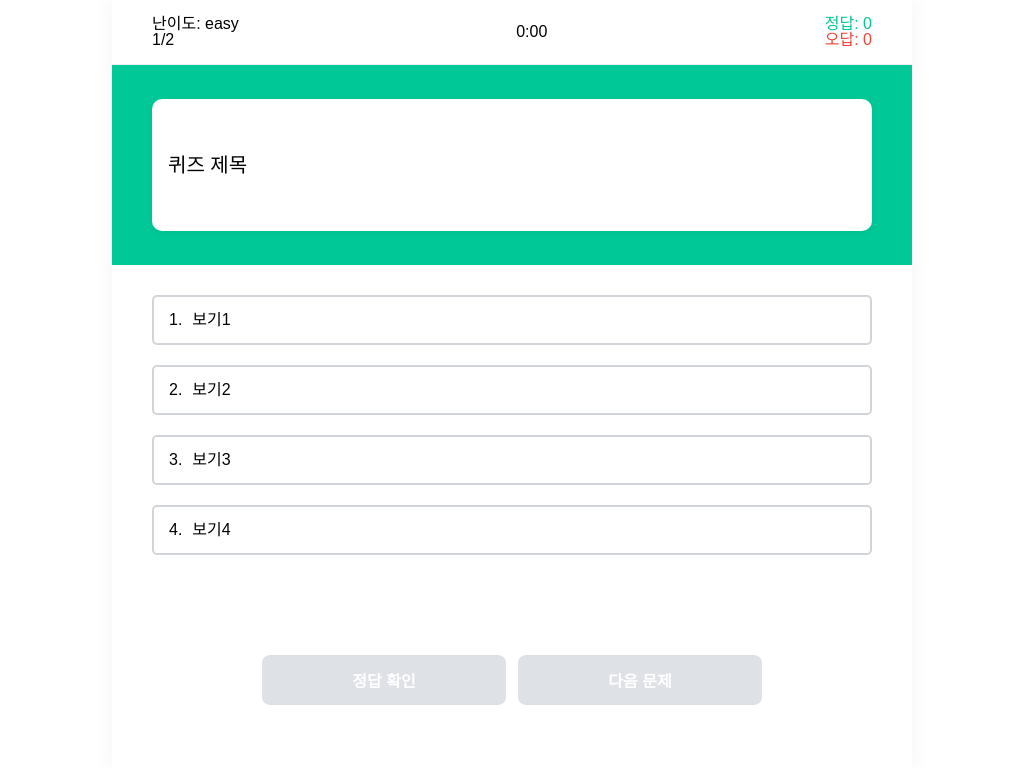
Scenario: quiz page render test › 문제 보기를 클릭하면 '정답 확인'버튼이 활성화 된다.
This screenshot has width=1024, height=768.
Expected: the button "정답 확인" is disabled, [262, 655, 506, 705]
Click the text "보기1" at (212, 320), box [192, 312, 231, 328]
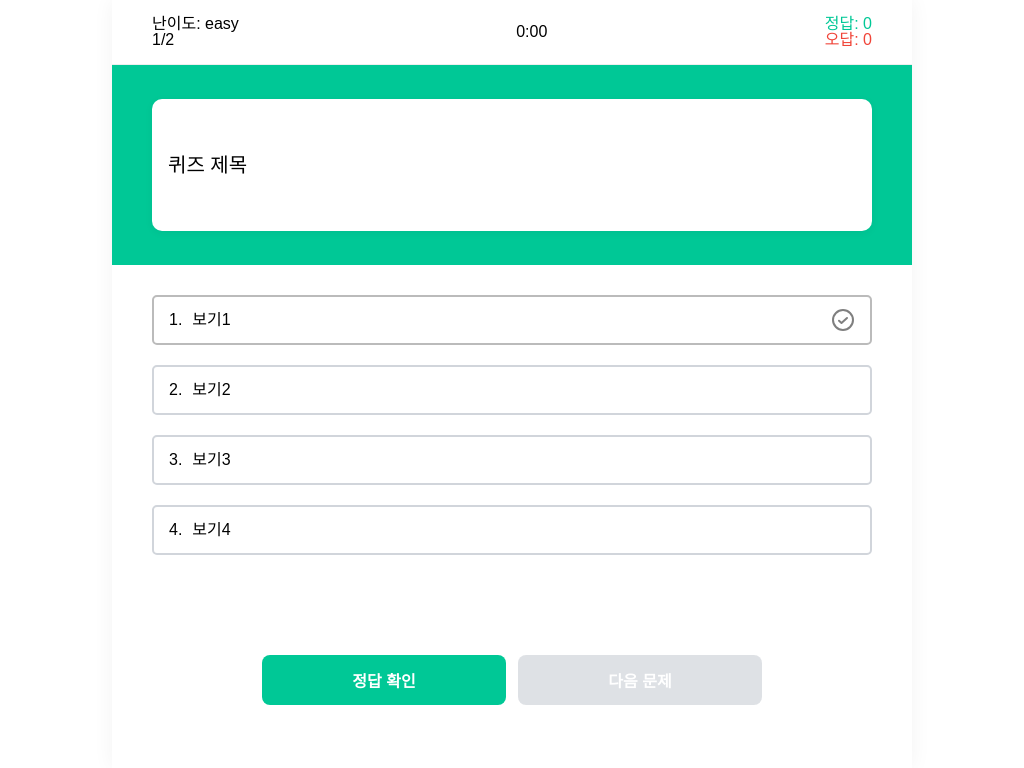
Expected: the button "정답 확인" is enabled, [262, 655, 506, 705]
